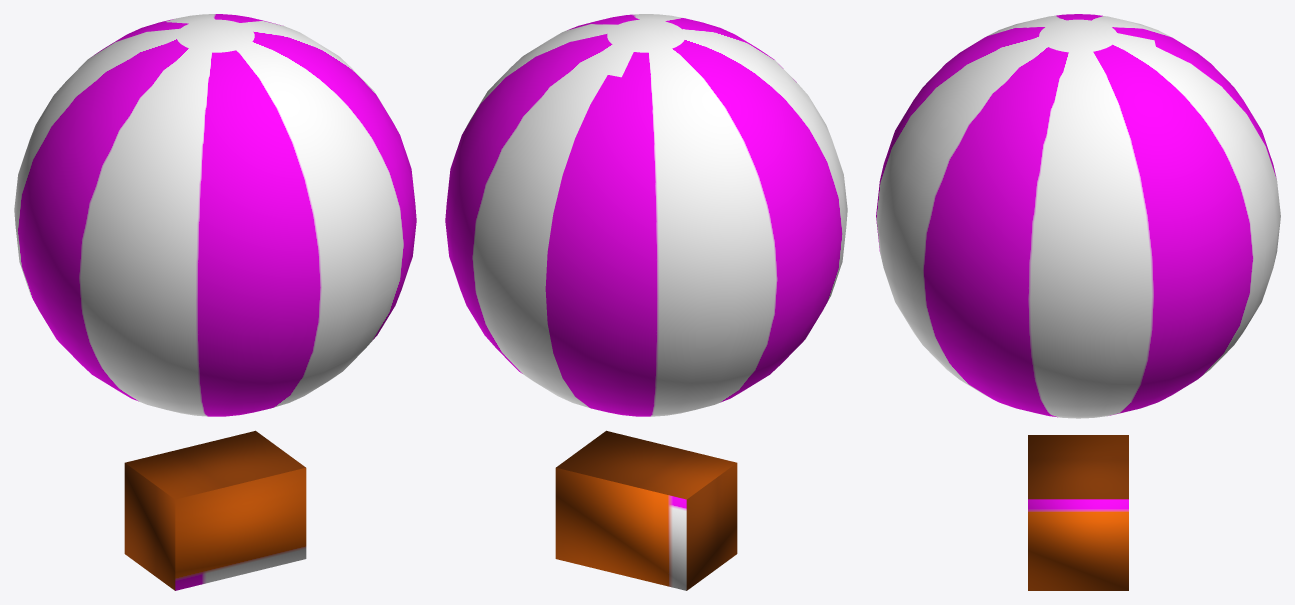
File: Balloon.fbx
The picture shows the model from 3 angles, left to right: view 1: azimuth 30°, elevation 25°; view 2: azimuth 150°, elevation 25°; view 3: azimuth 270°, elevation 25°; orthographic projection.
Visible parts, largest first — view 1: Envelope; view 2: Envelope; view 3: Envelope.
Boxes of the visible parts, x1,y1,x2,y2 form: Envelope: (14,14,416,590); Envelope: (445,14,847,590); Envelope: (876,14,1280,590).
Size of the model in its own units: 2 by 2.87 by 2.
Materials: 1 (1 with a texture image).
